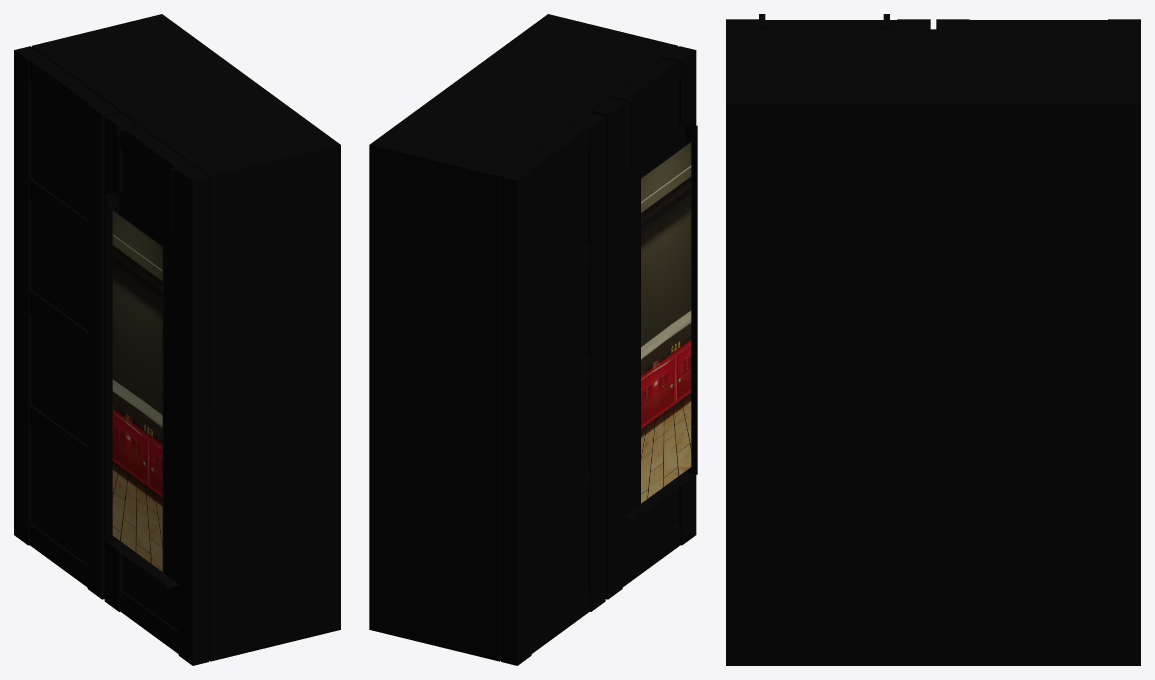
The model's file is wardbl.gltf.
3 views of the same model, side by side, from view 1: azimuth 30°, elevation 25°; view 2: azimuth 150°, elevation 25°; view 3: azimuth 270°, elevation 25° (orthographic). The views are drawn at different scales.
Parts seen in each view (by area): view 1: Black Cabinet; view 2: Black Cabinet; view 3: Black Cabinet.
Boxes of the visible parts, <box> form: Black Cabinet: <box>14,14,340,665</box>; Black Cabinet: <box>369,14,697,665</box>; Black Cabinet: <box>726,14,1140,665</box>.
Size of the model in its own units: 0.86 by 2.46 by 1.64.
5 materials, 1 textured.
